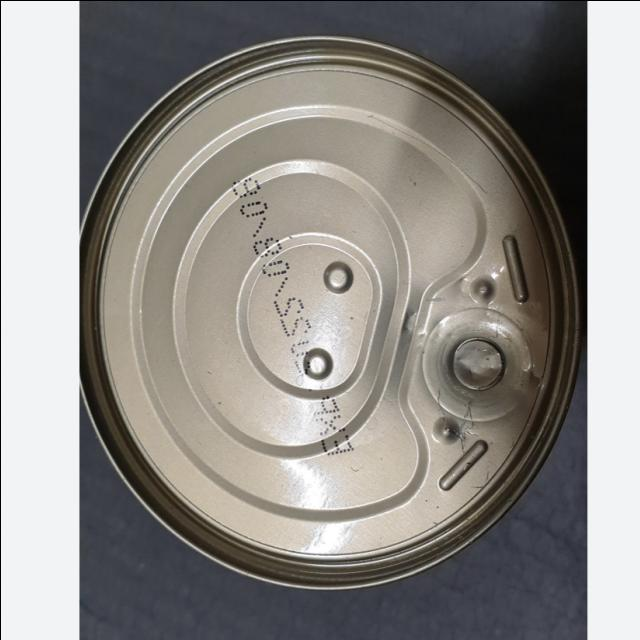can: (69, 16, 589, 600)
